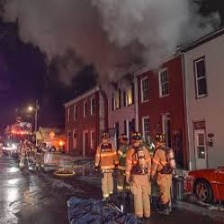smoke: (9, 1, 205, 91)
